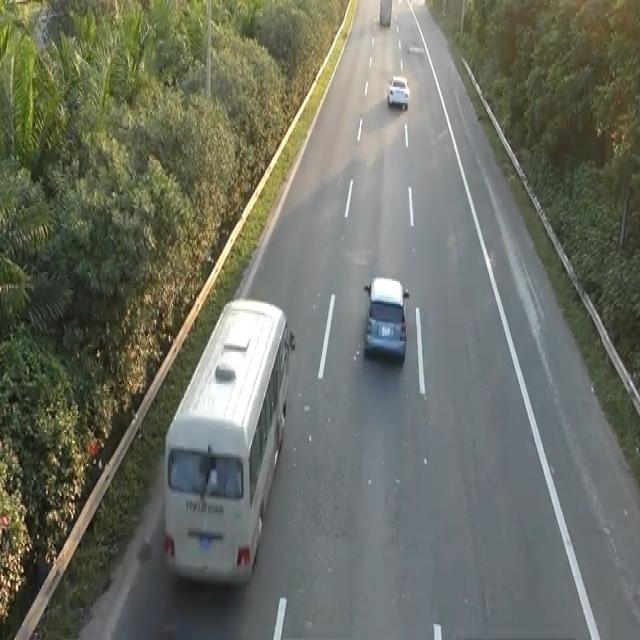bus: (361, 274, 410, 364)
jeep: (161, 293, 293, 587)
